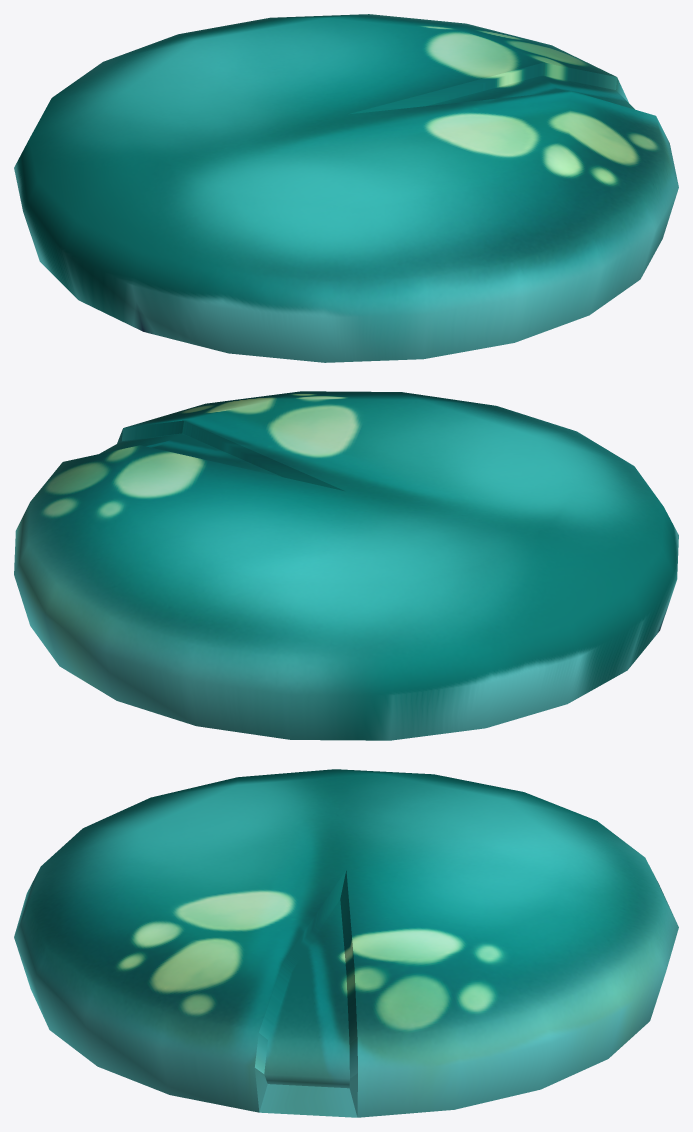
File: Avatar_lotus_01.fbx
3 renders of one model, top to bottom at view 1: azimuth 30°, elevation 25°; view 2: azimuth 150°, elevation 25°; view 3: azimuth 270°, elevation 25°, orthographic.
Visible parts, largest first — view 1: Avatar_lotus_01; view 2: Avatar_lotus_01; view 3: Avatar_lotus_01.
Boxes of the visible parts, bbox=[...] form: Avatar_lotus_01: bbox=[14, 14, 678, 362]; Avatar_lotus_01: bbox=[14, 391, 678, 740]; Avatar_lotus_01: bbox=[14, 769, 678, 1117].
Size of the model in its own units: 116 by 22.01 by 116.
